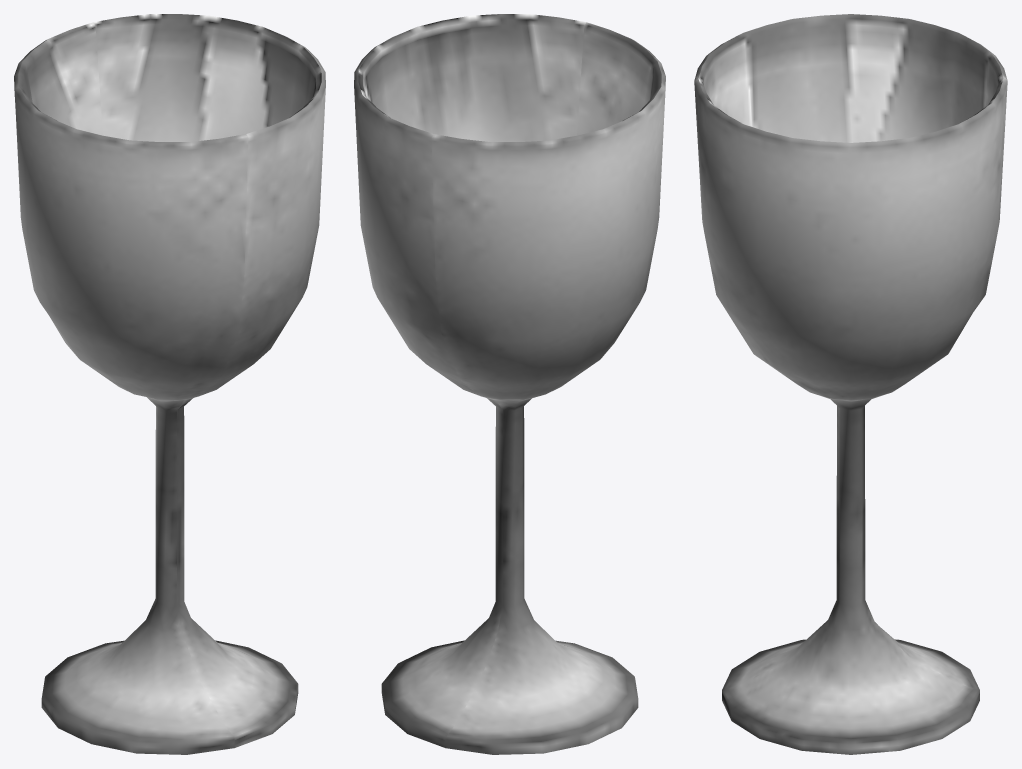
File: SM_WineGlass.fbx
3 views of the same model, side by side, from view 1: azimuth 30°, elevation 25°; view 2: azimuth 150°, elevation 25°; view 3: azimuth 270°, elevation 25° (orthographic).
Parts seen in each view (by area): view 1: SM_WineGlass; view 2: SM_WineGlass; view 3: SM_WineGlass.
Boxes of the visible parts, x1,y1,x2,y2 form: SM_WineGlass: (14, 14, 325, 754); SM_WineGlass: (354, 14, 665, 754); SM_WineGlass: (694, 14, 1007, 754).
Bounding box in the file's own units: 0.0493 × 0.108 × 0.0493.
